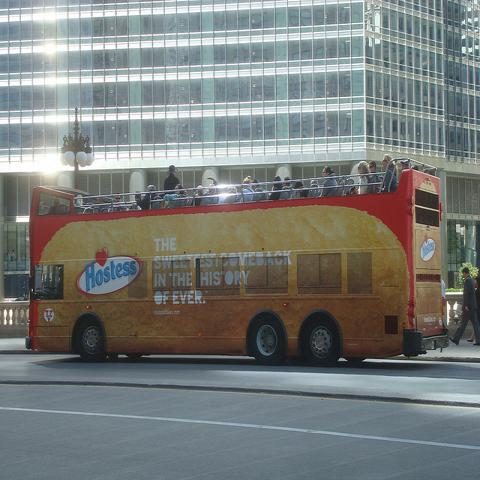bus: (28, 152, 450, 368)
